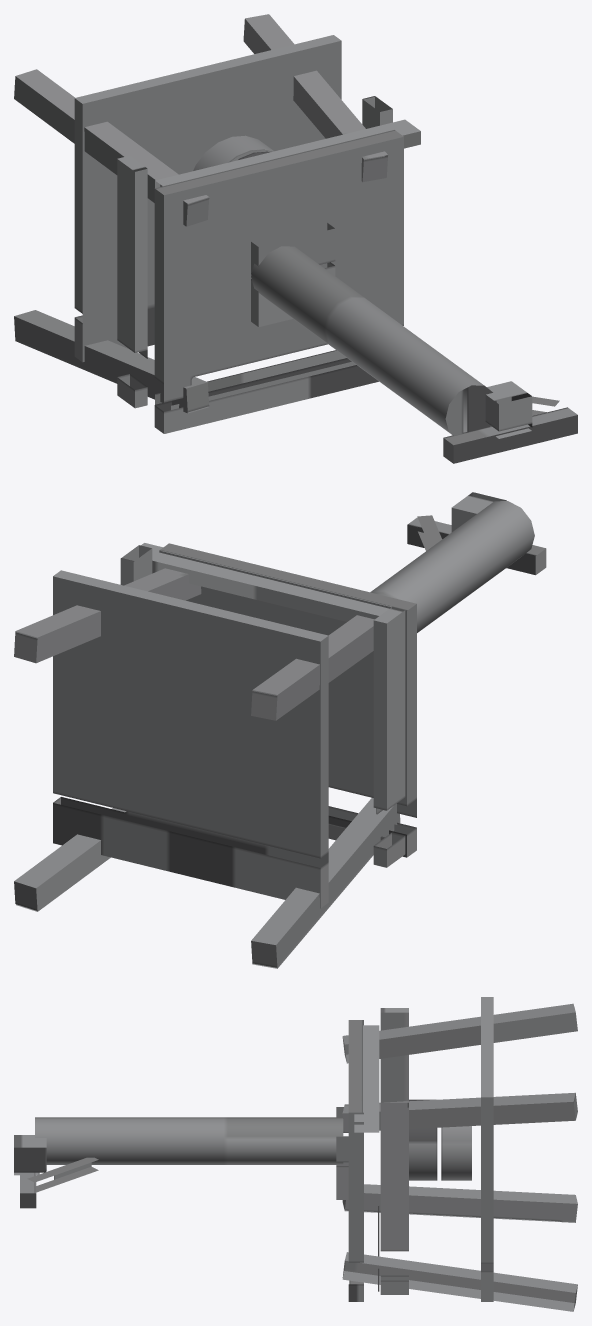
The picture shows the model from 3 angles, top to bottom: view 1: azimuth 30°, elevation 25°; view 2: azimuth 150°, elevation 25°; view 3: azimuth 270°, elevation 25°; orthographic projection. The views are drawn at different scales.
Size of the model in its own units: 1.06 by 1.04 by 2.41.
